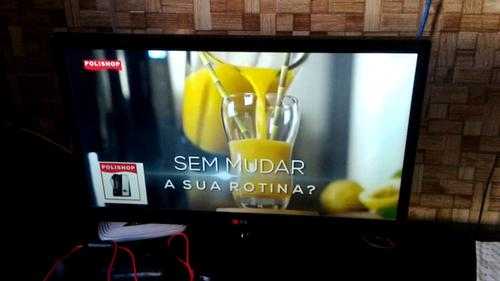Polishop #1: (96, 160, 148, 205)
